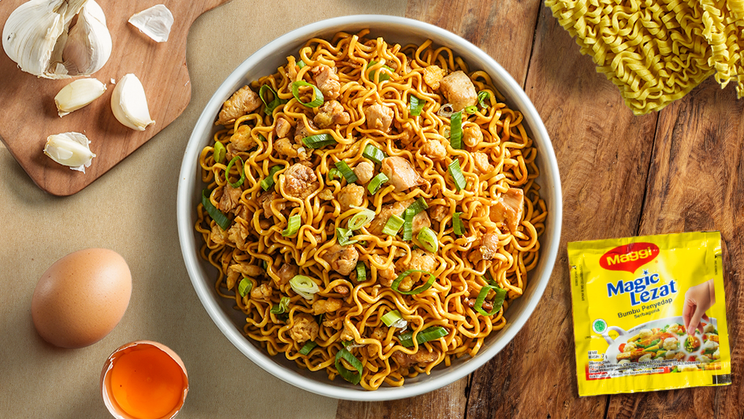Mie: (226, 41, 559, 375)
